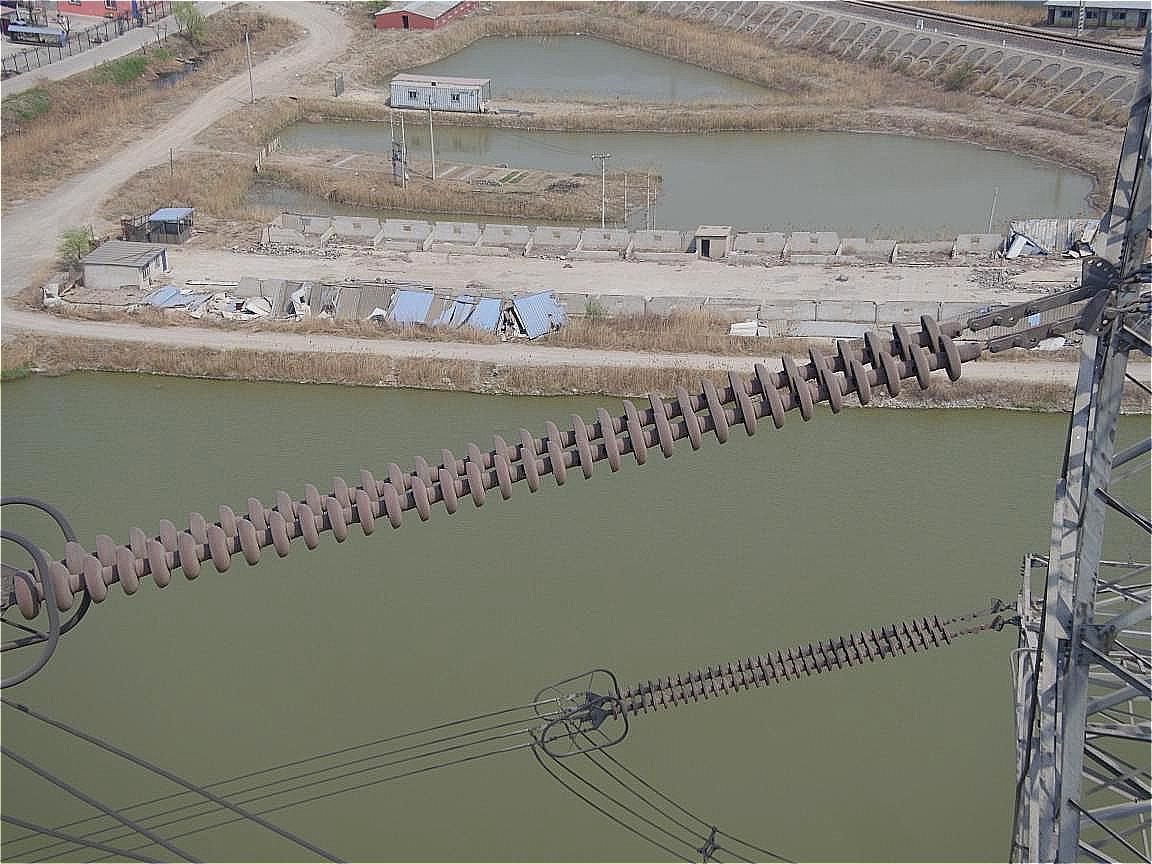insultor1: (15, 316, 965, 619), (607, 617, 952, 718)
